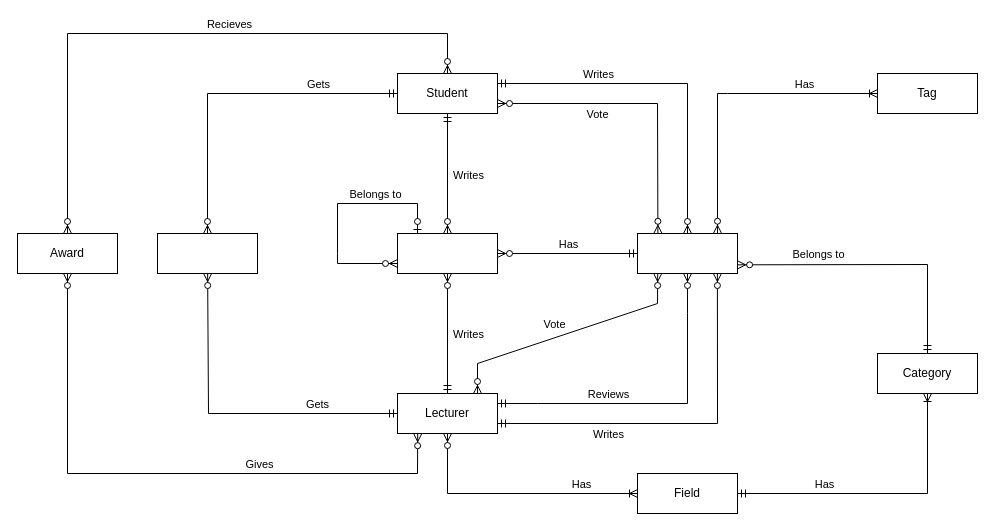
This 995x531 diagram has some shape labels left out. Here are the shapes that lost their labels. From the top down, the centre of each, then its label:
At (x=207, y=253): "Notification".
At (x=447, y=253): "Comment".
At (x=687, y=253): "Blog".
